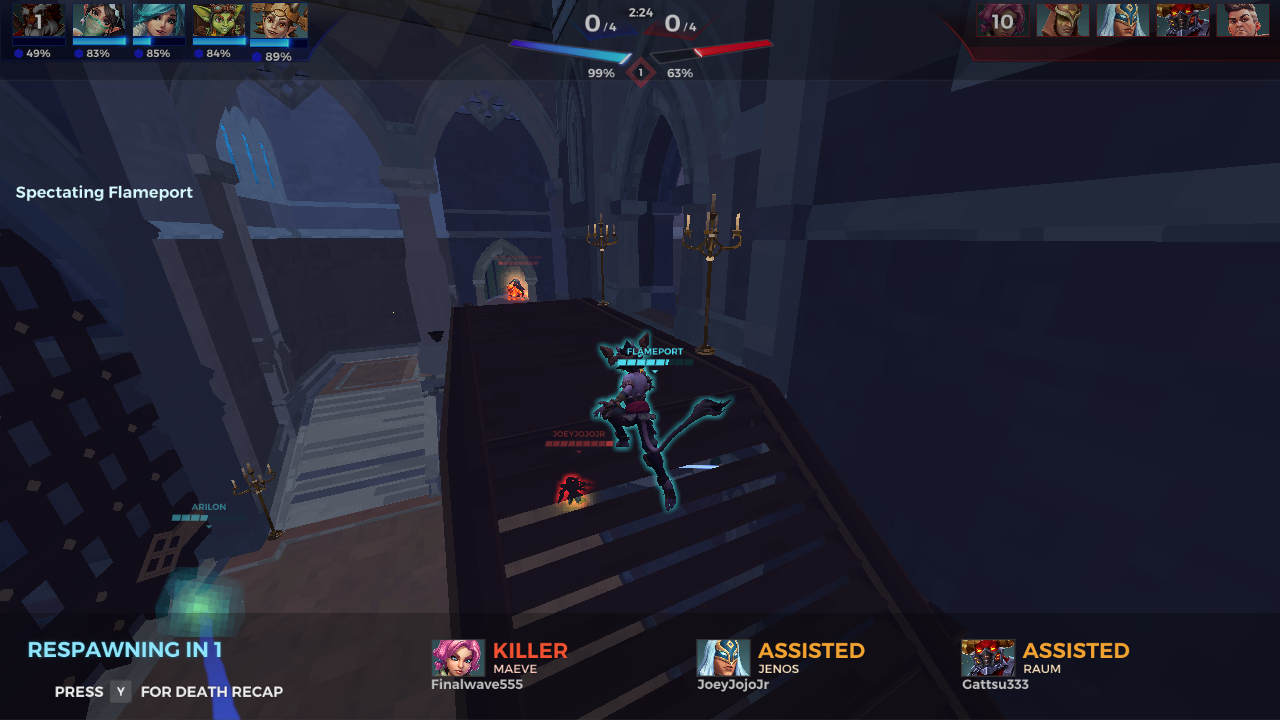model: (553, 466, 596, 510), (503, 273, 530, 307)
